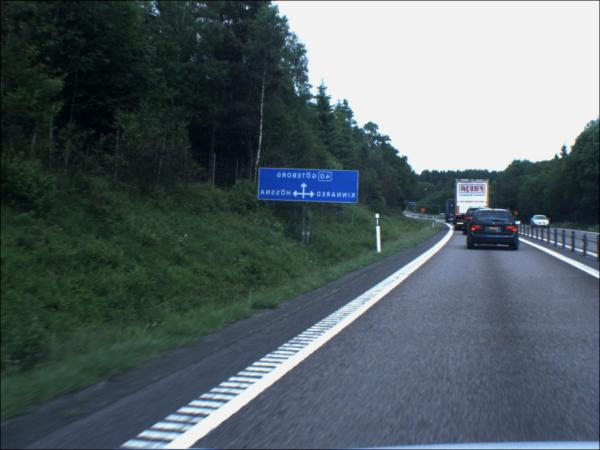70_SIGN: (420, 208, 425, 214)
